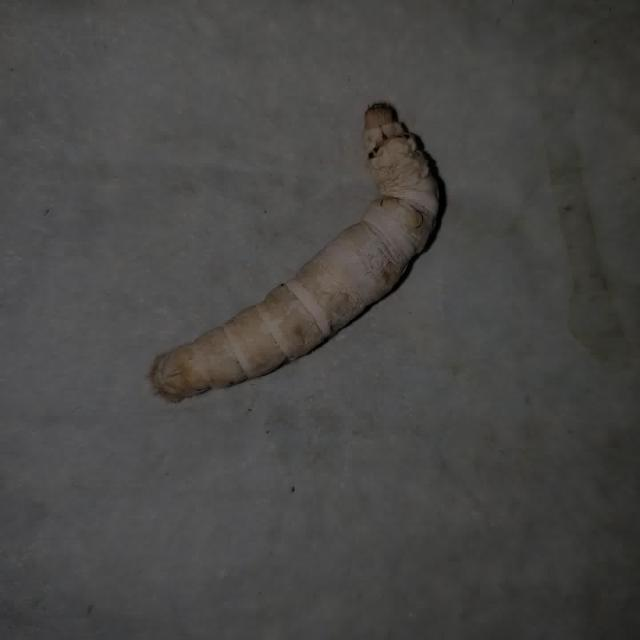Grasserie: (136, 89, 458, 422)
